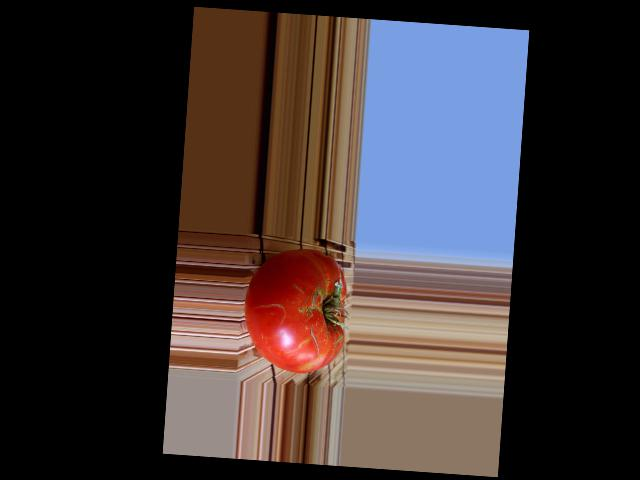tomato: (241, 244, 350, 375)
